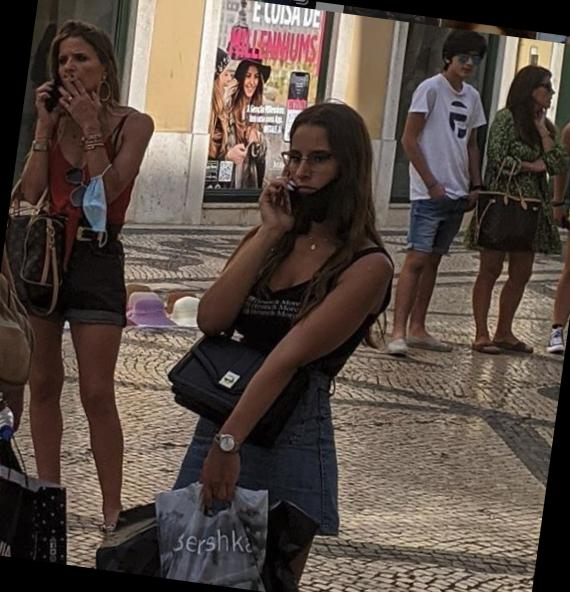mask_weared_incorrect: (277, 138, 346, 219)
without_mask: (54, 41, 101, 94), (442, 50, 486, 85), (536, 80, 557, 112), (215, 65, 234, 95), (243, 69, 261, 98)
